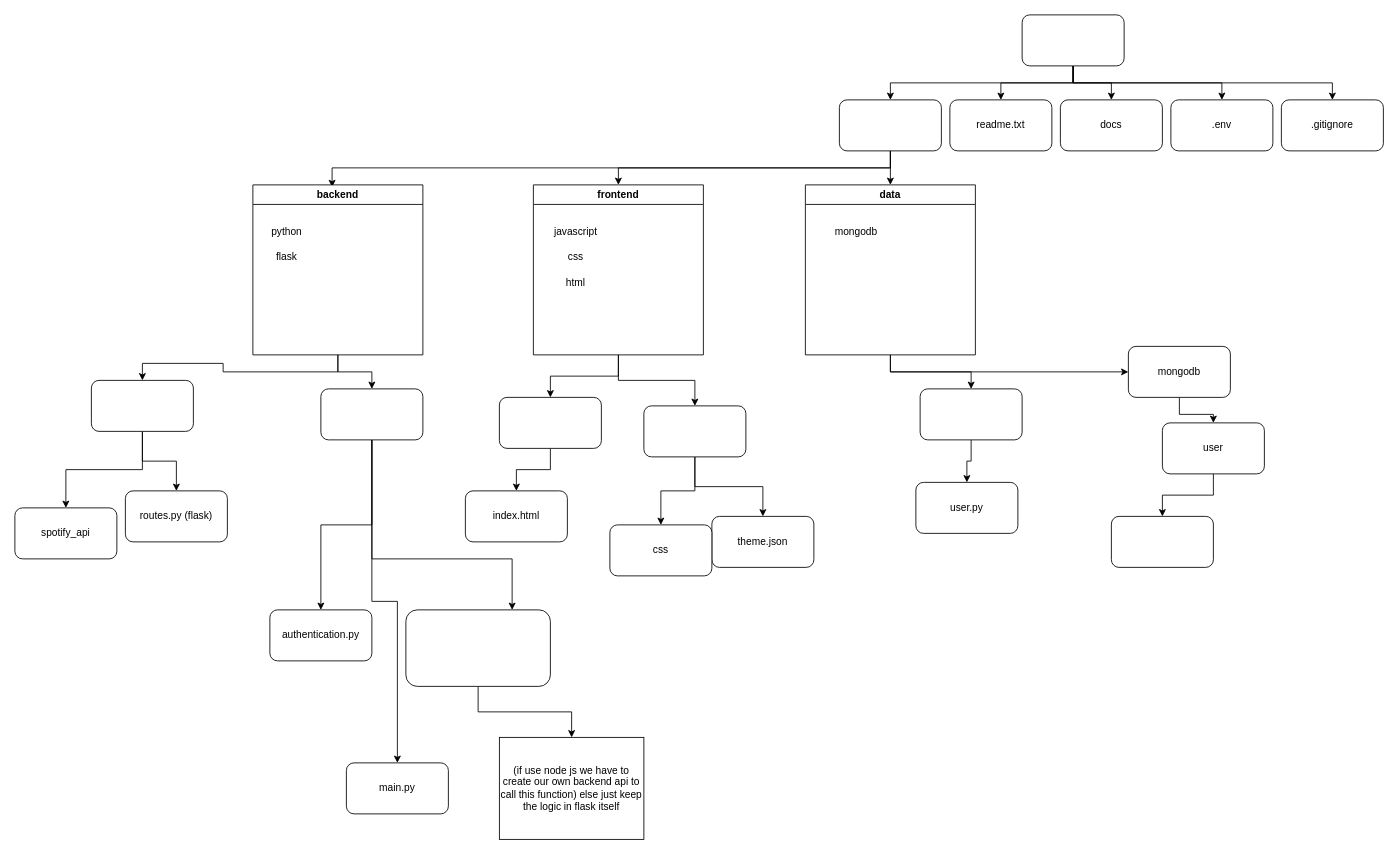
Some shapes in this 1398 by 854 pixel diagram are drawn without their labels. Here are the shapes that lost their labels. From the top down, the centre of each, then its label:
the point at 1072,40: Sae
the point at 890,125: app
the point at 142,405: connections
the point at 371,414: core
the point at 550,422: templates
the point at 970,414: models
the point at 694,431: static
the point at 1162,541: user favourites
the point at 477,647: recommendation.js / recommendation.py
